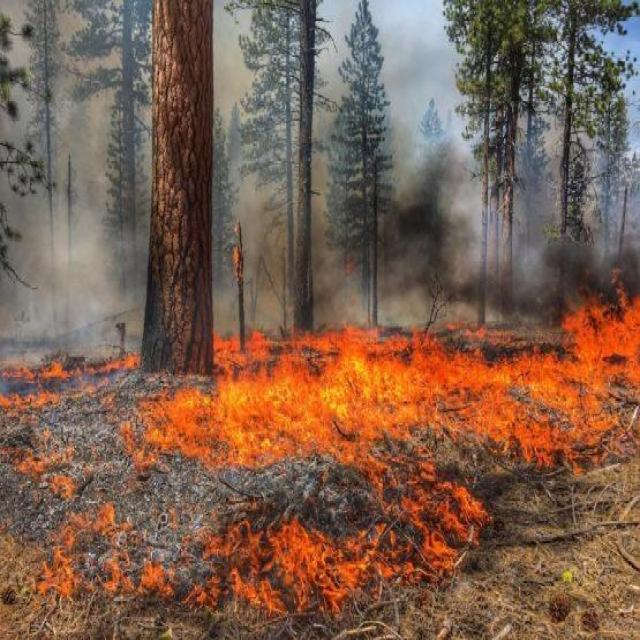Fire: (1, 241, 640, 617)
Smoke: (213, 2, 638, 336), (1, 2, 152, 370)
